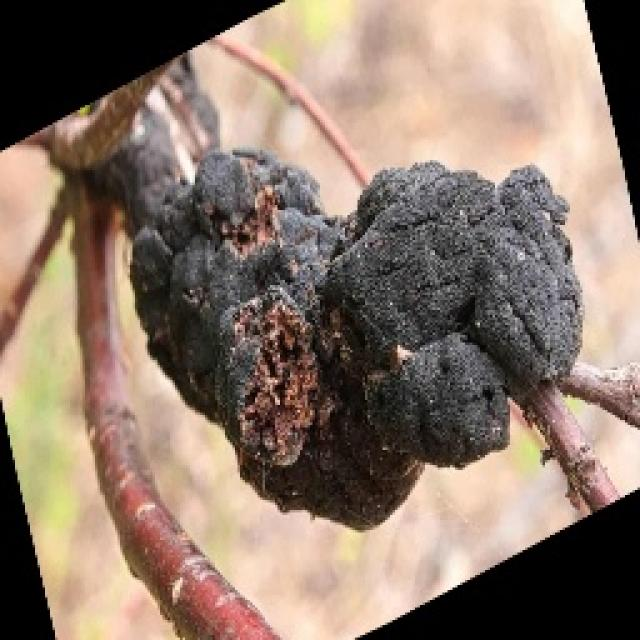Black_knot: (125, 142, 585, 530)
